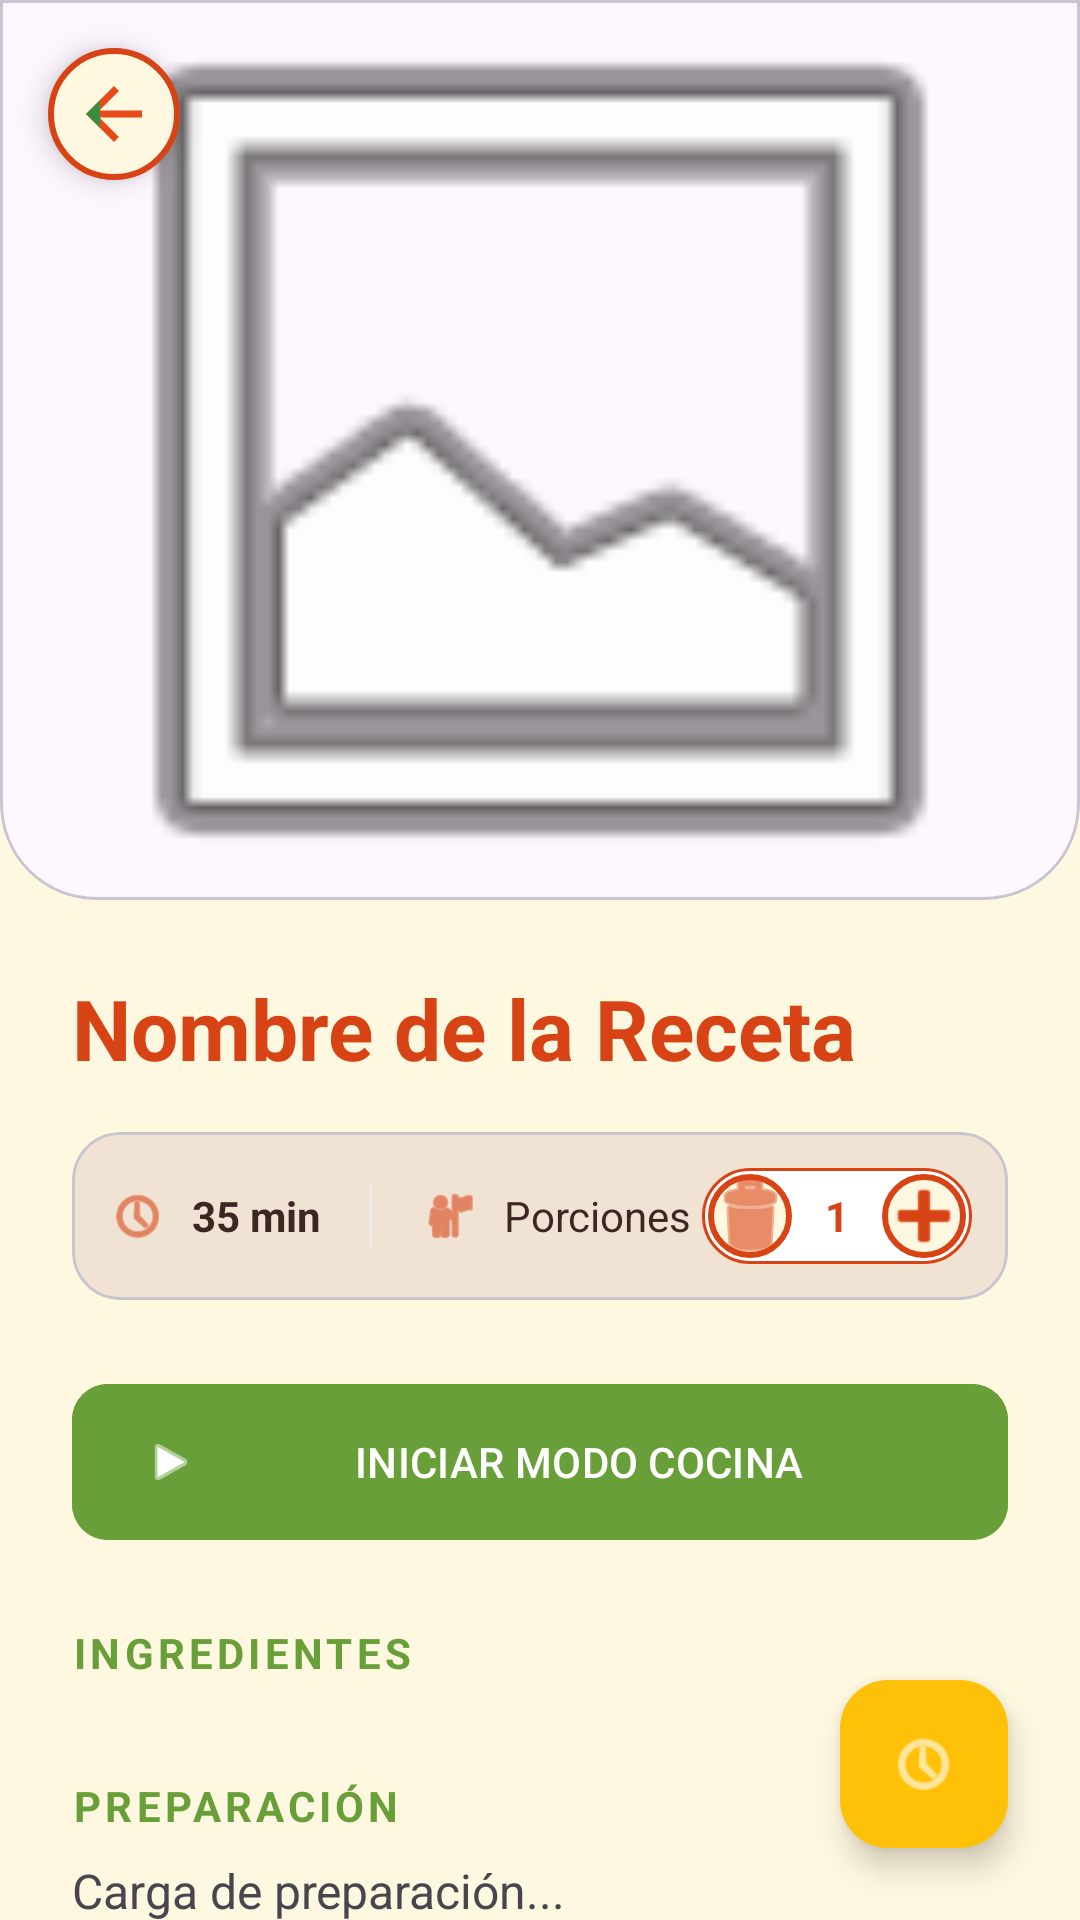

Point at icon controls on the screen. Image size 1080w x 1920h, points as [x,y].
add: [924,1216]
delete: [750,1216]
recent history: [137,1216], [924,1764]
Regresar: [114,114]
